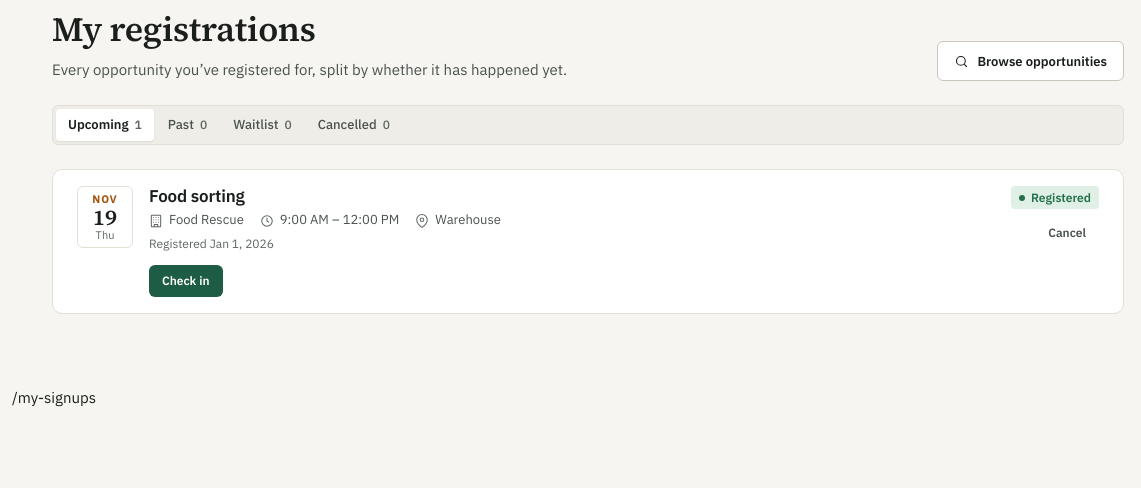
Test: My registrations › lets a volunteer check in on the day of the event with the venue code
Click the button "Check in": (186,281) [149, 265, 222, 297]
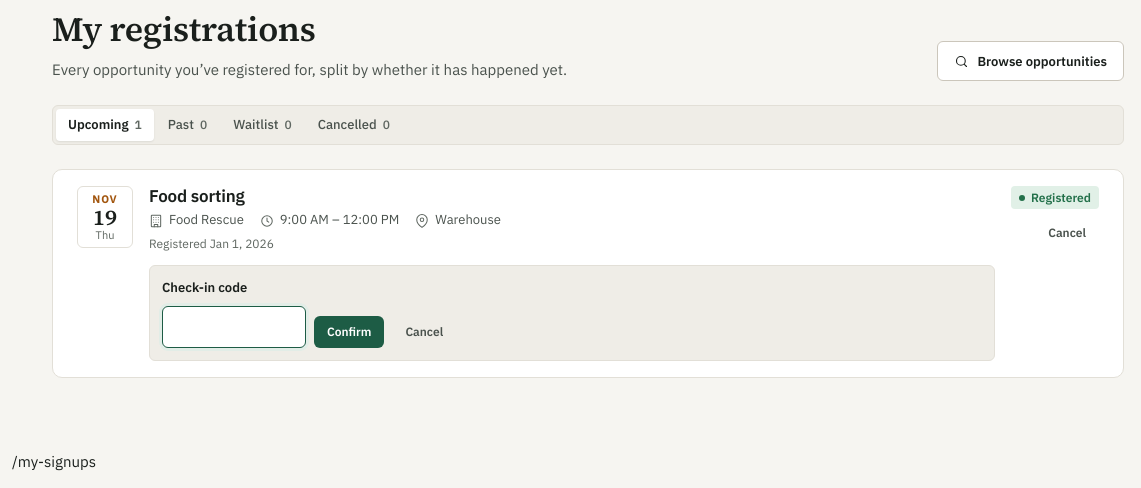
In the field labelled "Check-in code": (234,327) [162, 306, 306, 348], type "ab12cd"
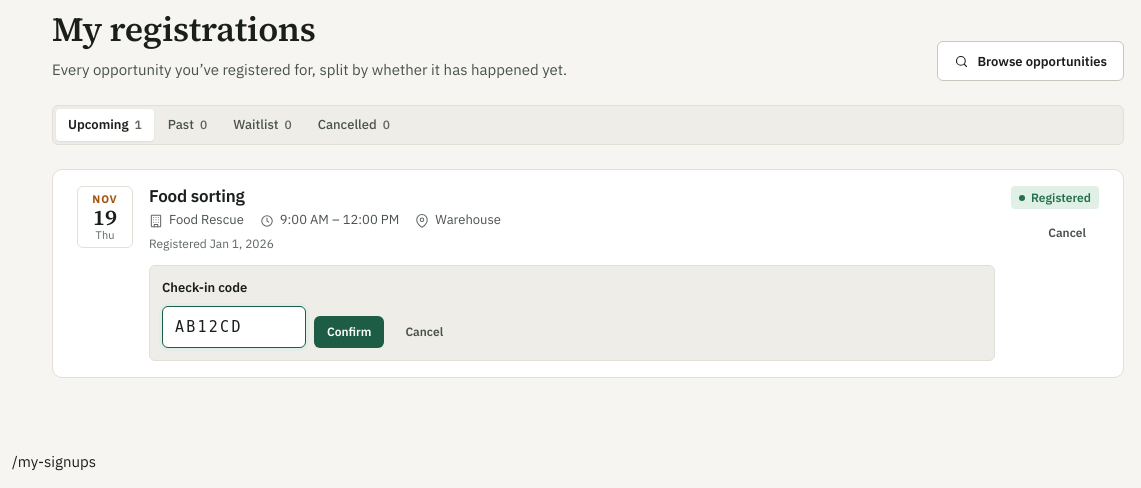
Click the button "Confirm": (349,332) [314, 316, 384, 348]
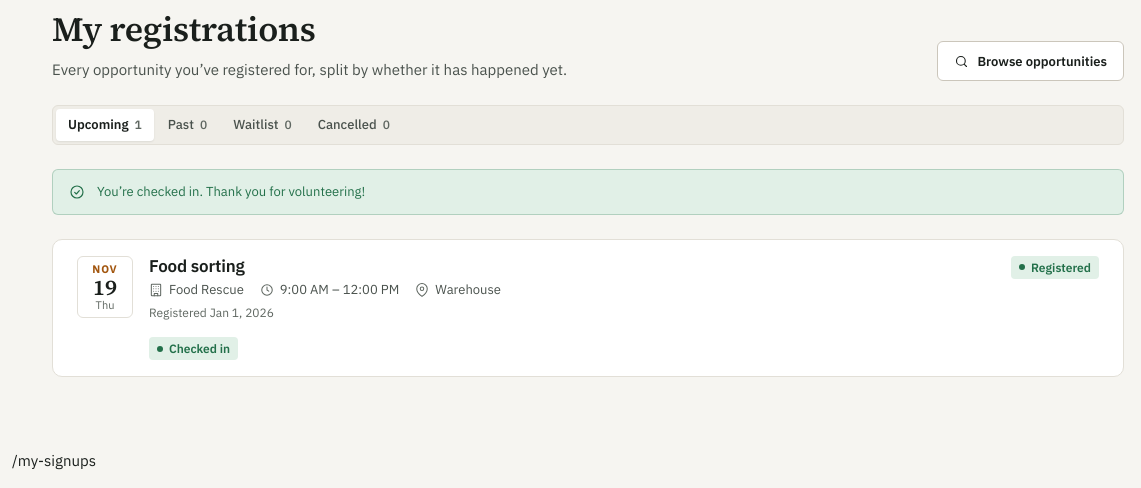
Result: the text "You’re checked in. Thank you for volunteering!" is shown at [97, 183, 365, 200]
Result: the text "Checked in" is shown at [149, 337, 238, 360]
